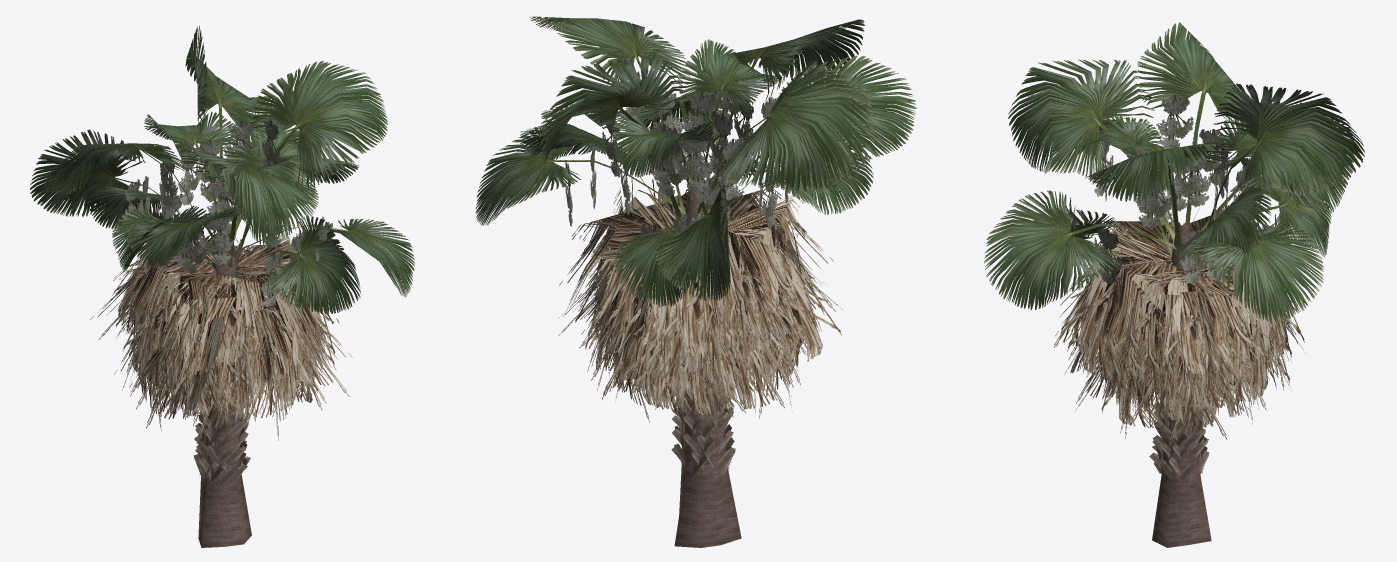
File: Washingtonia_Filifera_Spring_Young.glb
3 renders of one model, left to right at view 1: azimuth 30°, elevation 25°; view 2: azimuth 150°, elevation 25°; view 3: azimuth 270°, elevation 25°, orthographic. The views are drawn at different scales.
Visible parts, largest first — view 1: Washingtonia_Filifera_Spring_Young__LOD3; view 2: Washingtonia_Filifera_Spring_Young__LOD3; view 3: Washingtonia_Filifera_Spring_Young__LOD3.
Part boxes in pixels (x1=…): Washingtonia_Filifera_Spring_Young__LOD3: x1=30, y1=26, x2=414, y2=547; Washingtonia_Filifera_Spring_Young__LOD3: x1=475, y1=16, x2=916, y2=547; Washingtonia_Filifera_Spring_Young__LOD3: x1=984, y1=22, x2=1364, y2=547.
Bounding box in the file's own units: 5.43 × 6.36 × 5.16.
Materials: 3 (3 with a texture image).
